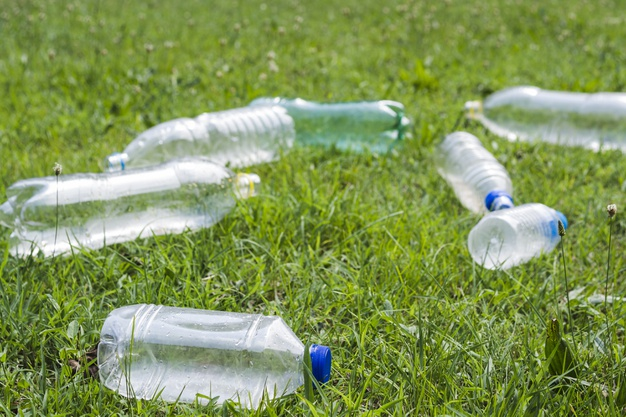plastic_bottle: (2, 127, 371, 336), (80, 73, 386, 260), (83, 269, 387, 417), (227, 43, 448, 197), (441, 33, 619, 167), (454, 179, 598, 341), (425, 103, 567, 258)
